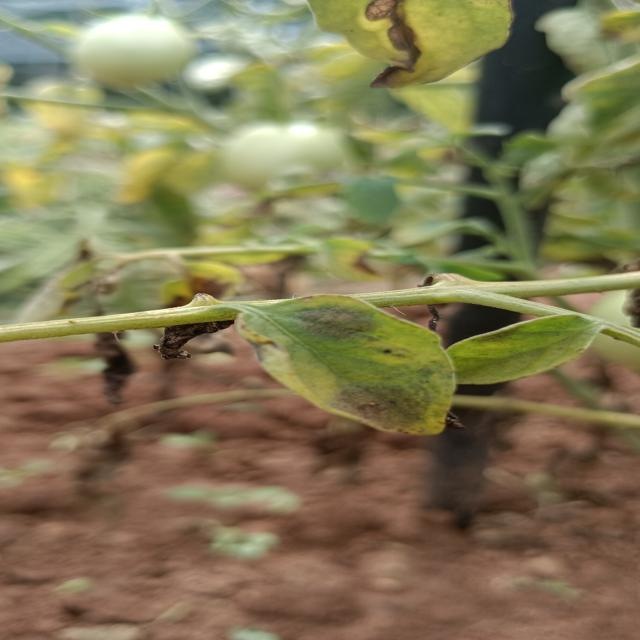tomato_early blight: (222, 295, 454, 435), (305, 0, 512, 87), (305, 0, 512, 87), (412, 311, 601, 383)
